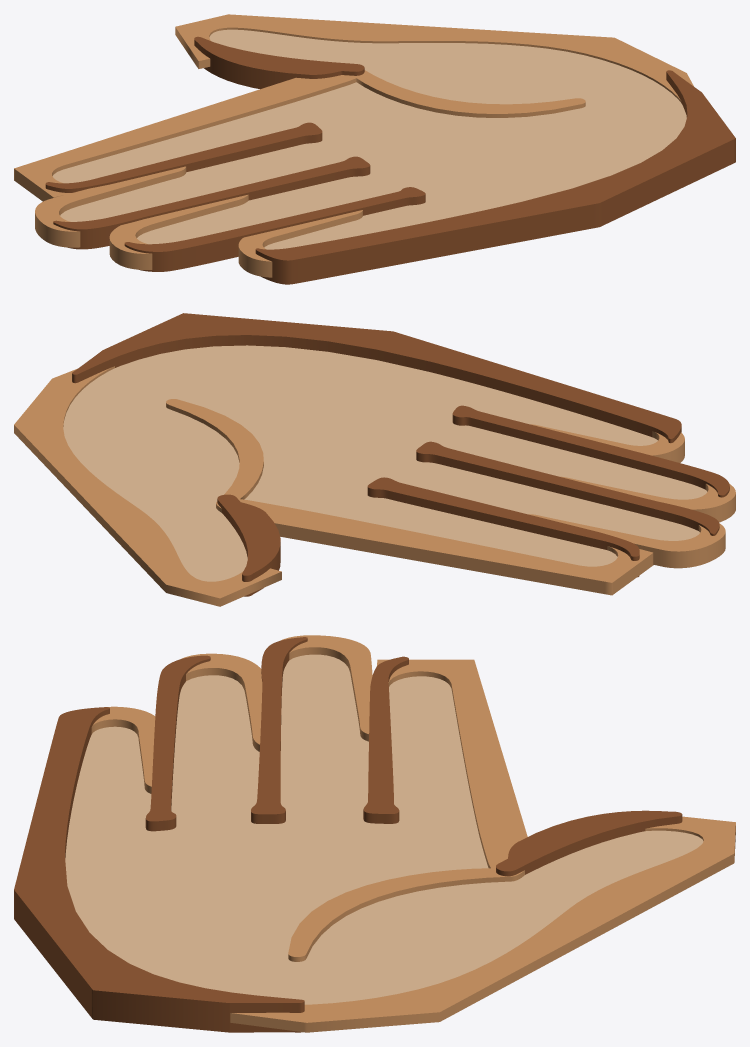
The model's file is emoji_u1faf2_1f3fc.glb.
3 renders of one model, top to bottom at view 1: azimuth 30°, elevation 25°; view 2: azimuth 150°, elevation 25°; view 3: azimuth 270°, elevation 25°, orthographic. The views are drawn at different scales.
Visible parts, largest first — view 1: emoji_u1faf2_1f3fc; view 2: emoji_u1faf2_1f3fc; view 3: emoji_u1faf2_1f3fc.
Part boxes in pixels (box(x1,y1,x2,y2)): emoji_u1faf2_1f3fc: box(14, 14, 735, 284); emoji_u1faf2_1f3fc: box(14, 313, 735, 606); emoji_u1faf2_1f3fc: box(14, 635, 735, 1032).
Bounding box in the file's own units: 0.0334 × 0.0012 × 0.0267.
